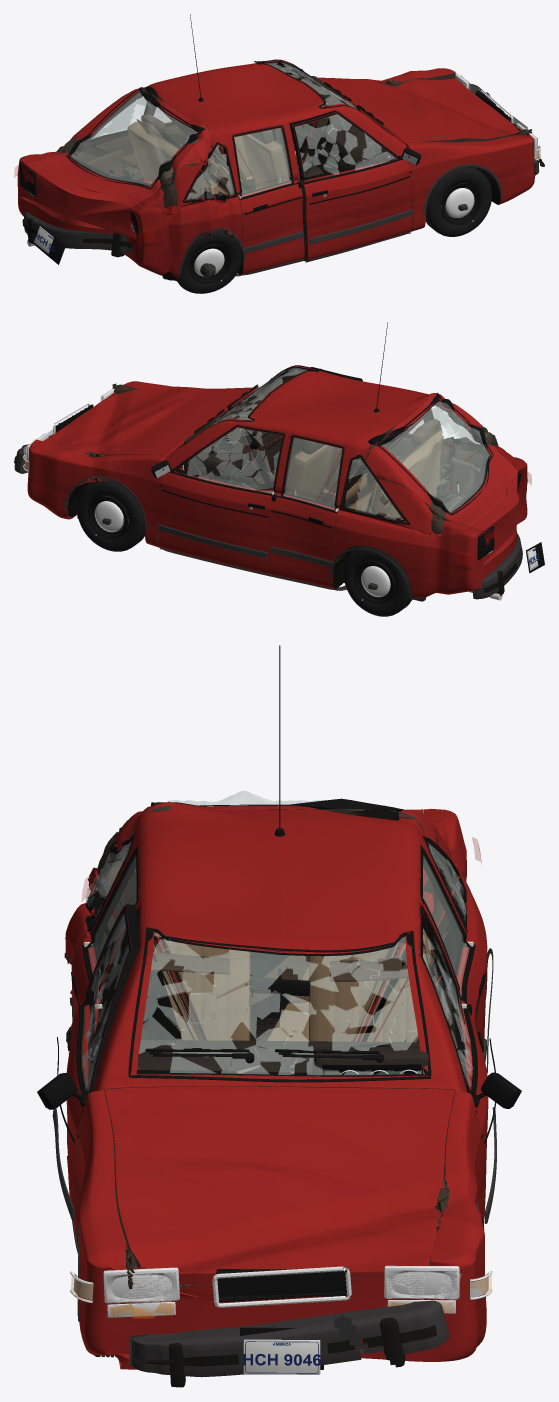
Rendered from hatchback85_rear_corner_R_d1.glb.
3 renders of one model, top to bottom at view 1: azimuth 30°, elevation 25°; view 2: azimuth 150°, elevation 25°; view 3: azimuth 270°, elevation 25°, orthographic. The views are drawn at different scales.
Visible parts, largest first — view 1: Body, Interior, Hatch, Door_FR, Hood, Glass_Hatch, Door_RR, Wheel_FR_mesh, Glass_RR, Glass, Wheel_RR_mesh, Glass_FR (+7 smaller); view 2: Body, Interior, Door_FL, Hood, Glass_Hatch, Hatch, Door_RL, Wheel_FL_mesh, Wheel_RL_mesh, Glass_FL, Glass, Glass_RL (+7 smaller); view 3: Body, Hood, Glass, Interior, Ends, Bumper_F, Door_FR, Trim, Door_FL, Trim_FR, Trim_FL, Lamps_Head (+9 smaller).
Boxes of the visible parts, left/top/right/bottom form: Body: left=17, top=60, right=534, bottom=280; Interior: left=87, top=76, right=388, bottom=197; Hatch: left=25, top=87, right=211, bottom=239; Door_FR: left=289, top=110, right=412, bottom=261; Hood: left=320, top=78, right=521, bottom=144; Glass_Hatch: left=66, top=88, right=205, bottom=189; Door_RR: left=231, top=124, right=304, bottom=274; Wheel_FR_mesh: left=425, top=166, right=491, bottom=236; Glass_RR: left=232, top=128, right=293, bottom=197; Glass: left=92, top=59, right=393, bottom=202; Wheel_RR_mesh: left=177, top=230, right=241, bottom=293; Glass_FR: left=292, top=111, right=396, bottom=183; Body: left=27, top=366, right=527, bottom=598; Interior: left=183, top=396, right=480, bottom=545; Door_FL: left=158, top=424, right=285, bottom=574; Hood: left=43, top=388, right=255, bottom=456; Glass_Hatch: left=376, top=393, right=493, bottom=515; Hatch: left=366, top=393, right=519, bottom=565; Door_RL: left=269, top=434, right=345, bottom=588; Wheel_FL_mesh: left=77, top=480, right=144, bottom=551; Wheel_RL_mesh: left=343, top=545, right=413, bottom=616; Glass_FL: left=175, top=425, right=285, bottom=494; Glass: left=177, top=365, right=480, bottom=522; Glass_RL: left=281, top=436, right=344, bottom=510; Body: left=65, top=802, right=487, bottom=1369; Hood: left=104, top=1086, right=455, bottom=1284; Glass: left=85, top=837, right=466, bottom=1082; Interior: left=133, top=893, right=432, bottom=1074; Ends: left=70, top=1265, right=492, bottom=1374; Bumper_F: left=129, top=1300, right=448, bottom=1387; Door_FR: left=66, top=904, right=140, bottom=1245; Trim: left=64, top=645, right=493, bottom=1321; Door_FL: left=419, top=903, right=488, bottom=1224; Trim_FR: left=37, top=905, right=131, bottom=1254; Trim_FL: left=420, top=905, right=521, bottom=1223; Lamps_Head: left=116, top=1271, right=460, bottom=1304.
Bounding box in the file's own units: 4.39 × 2.14 × 1.93.
Materials: 33 (5 with a texture image).
